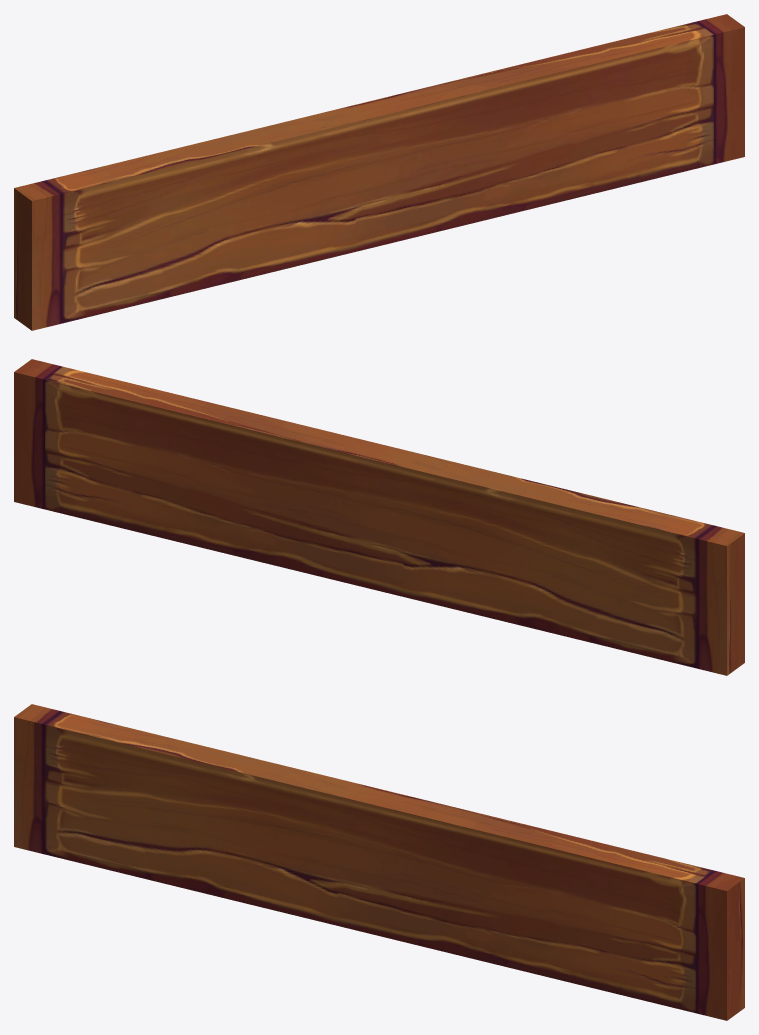
The model's file is fence_wood_03.fbx.
The picture shows the model from 3 angles, top to bottom: view 1: azimuth 30°, elevation 25°; view 2: azimuth 150°, elevation 25°; view 3: azimuth 330°, elevation 25°; orthographic projection.
Visible parts, largest first — view 1: fence_wood_03; view 2: fence_wood_03; view 3: fence_wood_03.
Boxes of the visible parts, <box> form: fence_wood_03: <box>14,14,744,330</box>; fence_wood_03: <box>14,359,744,675</box>; fence_wood_03: <box>14,704,744,1020</box>.
Bounding box in the file's own units: 230 × 40 × 10.03.
